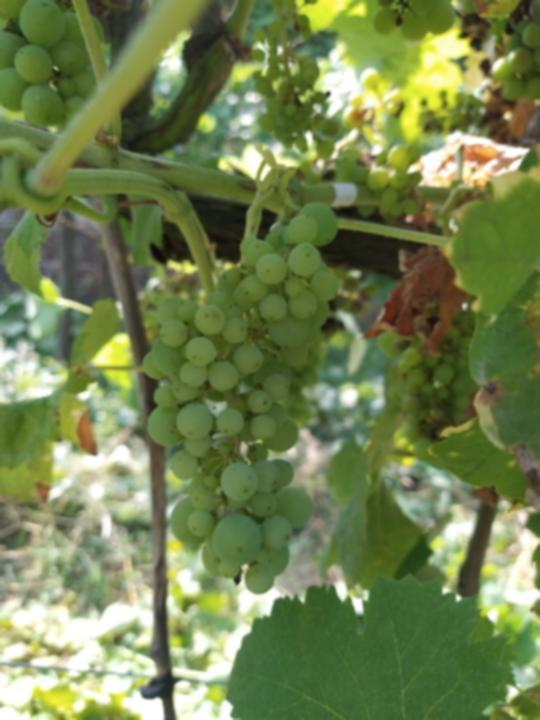grape: (143, 202, 342, 592)
